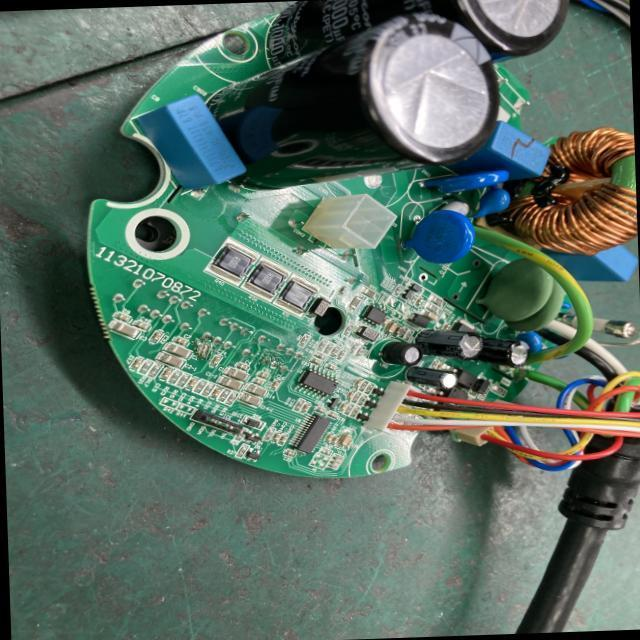damged: (197, 339, 211, 360)
